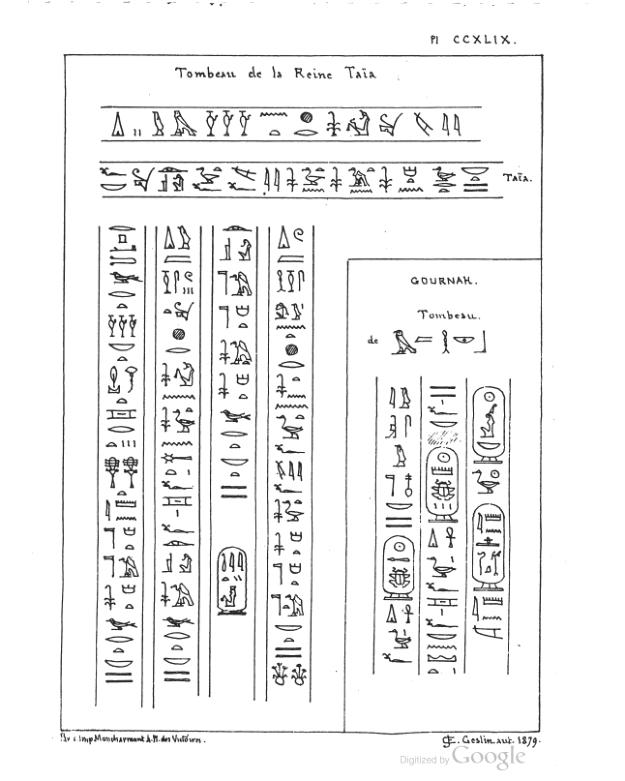circle: (469, 501, 508, 593), (424, 445, 464, 524), (213, 543, 253, 620), (471, 383, 506, 465), (380, 532, 415, 603)
